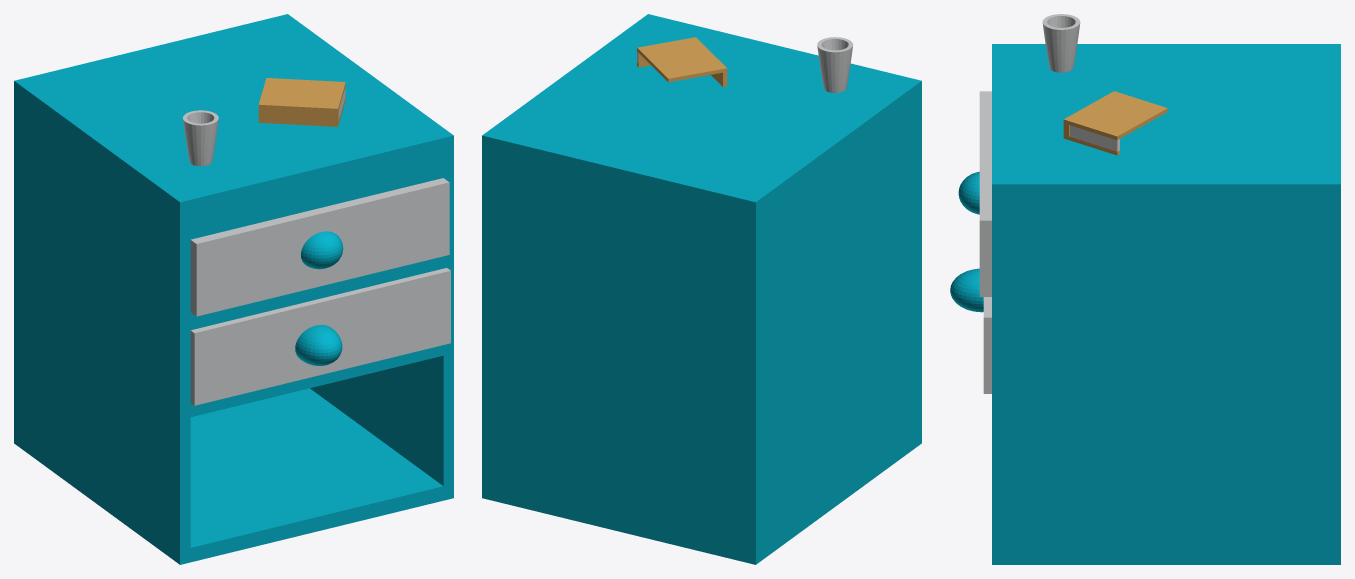
3 views of the same model, side by side, from view 1: azimuth 30°, elevation 25°; view 2: azimuth 150°, elevation 25°; view 3: azimuth 270°, elevation 25° (orthographic). The views are drawn at different scales.
Visible parts, largest first — view 1: Mesh_Mesh_head_geo.001_lambert2SG.001; view 2: Mesh_Mesh_head_geo.001_lambert2SG.001; view 3: Mesh_Mesh_head_geo.001_lambert2SG.001.
Boxes of the visible parts, x1,y1,x2,y2 form: Mesh_Mesh_head_geo.001_lambert2SG.001: (14, 14, 453, 564); Mesh_Mesh_head_geo.001_lambert2SG.001: (482, 14, 921, 564); Mesh_Mesh_head_geo.001_lambert2SG.001: (950, 14, 1340, 564).
Bounding box in the file's own units: 79 × 113 × 93.
